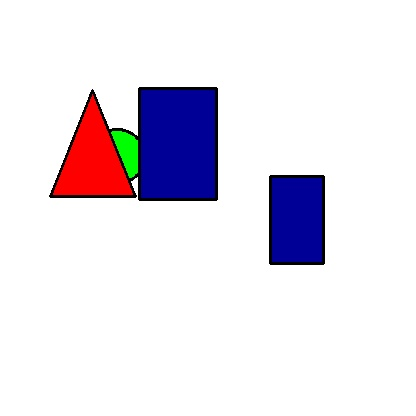circle: (72, 129, 163, 183)
rectangle: (139, 88, 216, 199), (270, 176, 323, 263)
triangle: (50, 90, 135, 196)
